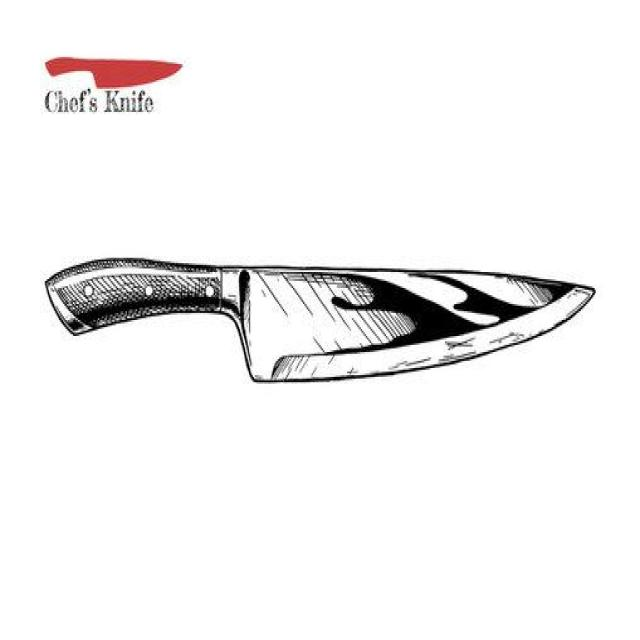weapon: (31, 236, 602, 384)
